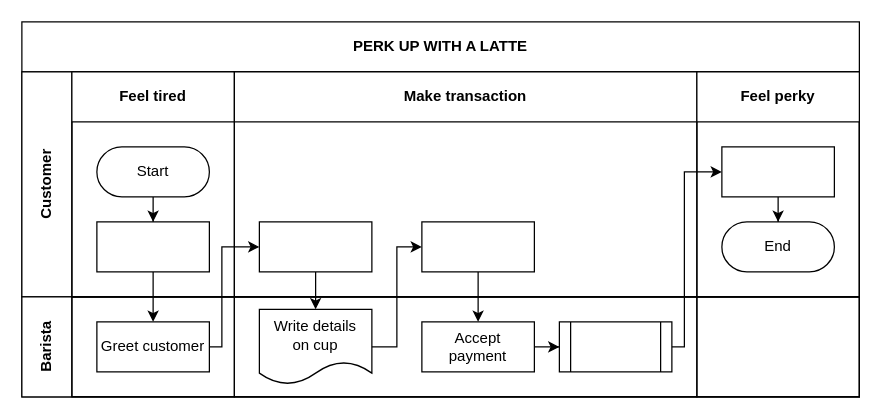
Image size: 881x419. Some labels were removed from this diagram. The centre of each missing label's shape, as x and y in pixels:
"Buy latte" belongs at point (477, 246).
"Drink latte" belongs at point (777, 171).
"Find barista" belongs at point (152, 246).
"Make latte" belongs at point (615, 346).
"Request latte" belongs at point (315, 246).
